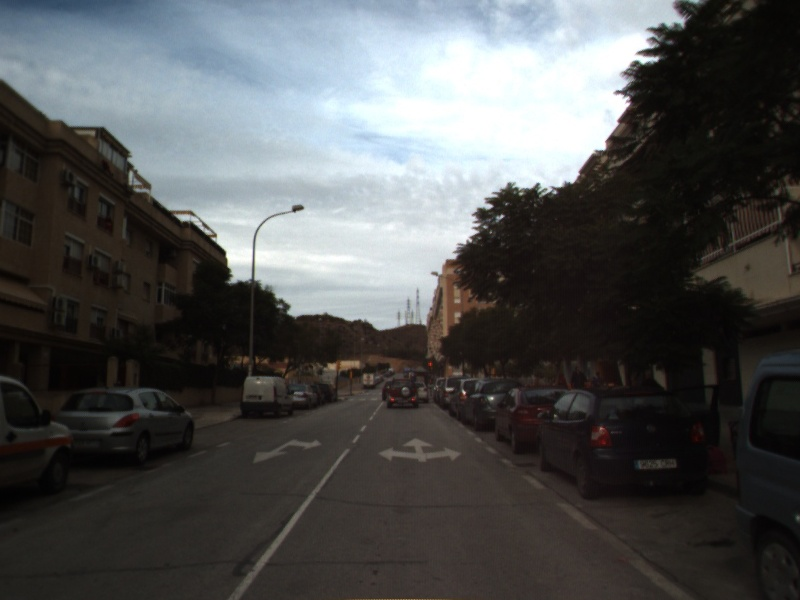STRAIGHT_LEFT_RIGHT: (376, 436, 464, 464)
